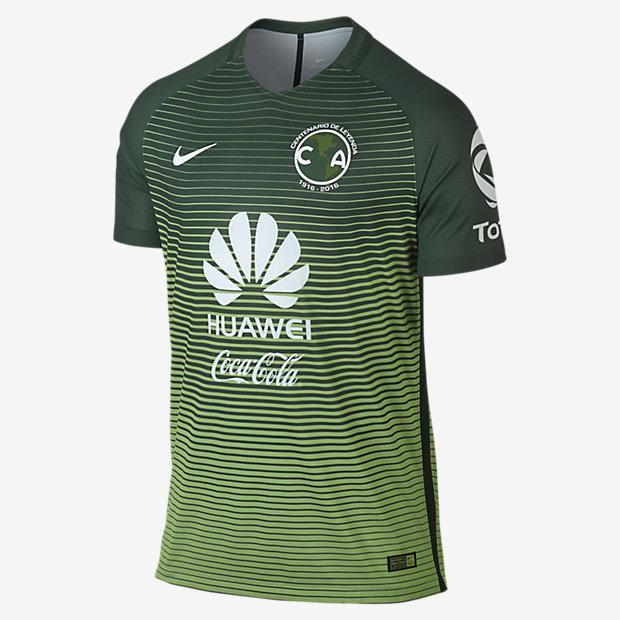teeshirt: (91, 15, 616, 620)
